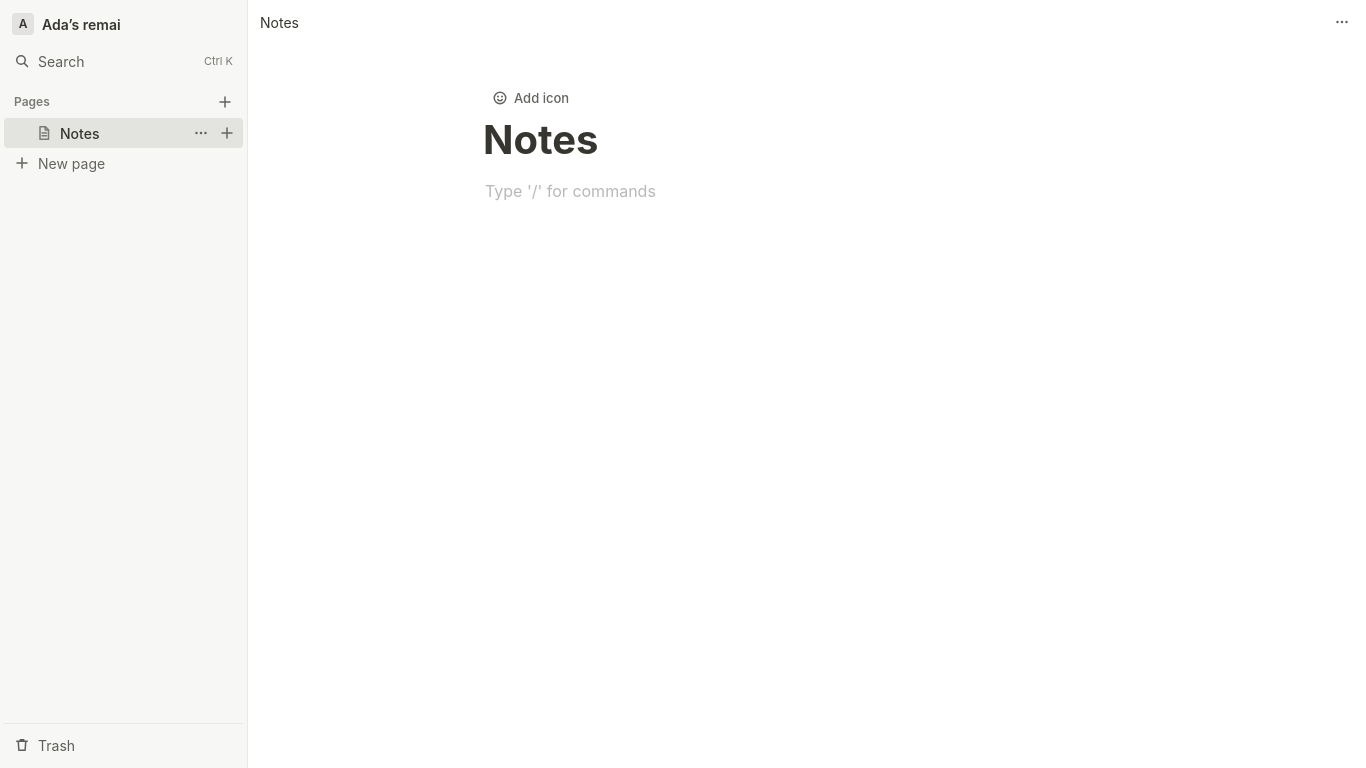
Test: Page header and autosave › Save failure surfaced: shows a save-failed state and keeps the edits on screen
This screenshot has width=1366, height=768.
Type "Important" into the text box named "Text" at (807, 191), box 483,176 -> 1131,206
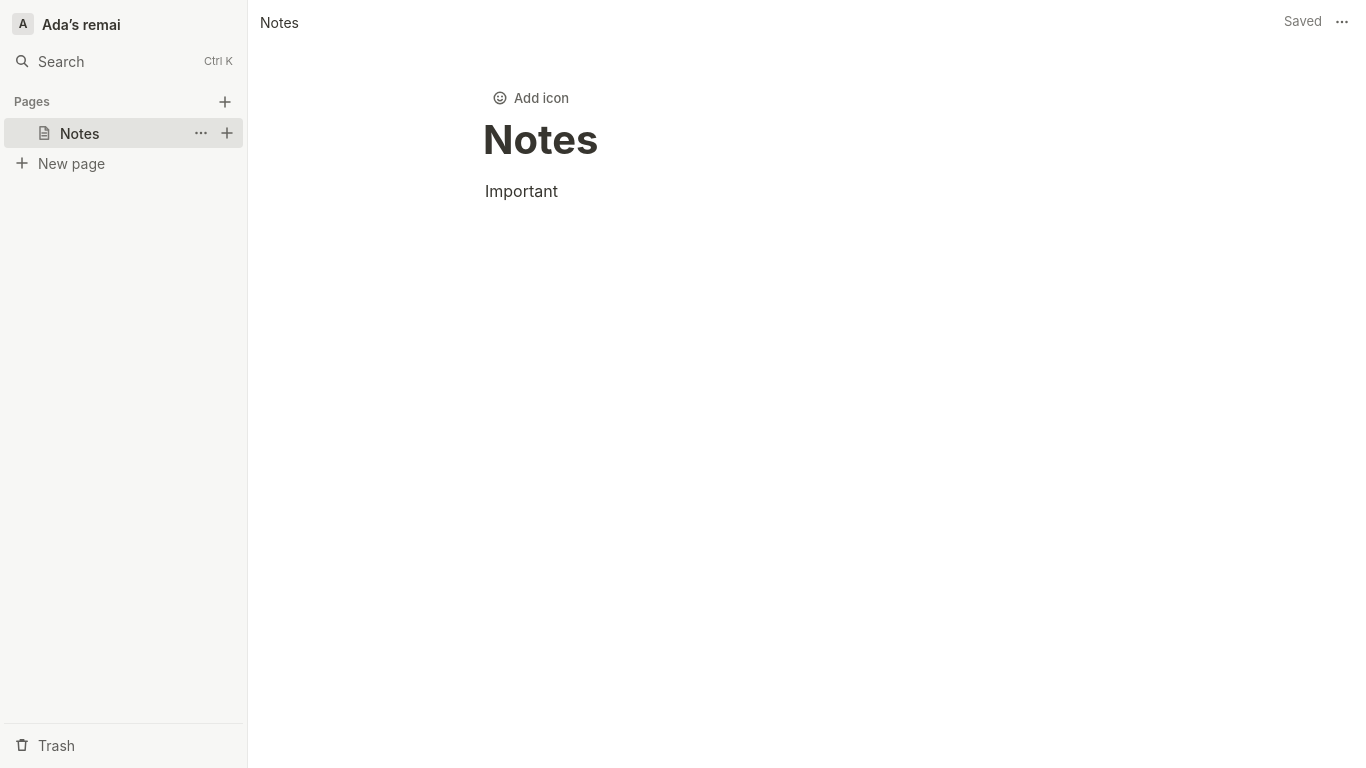
Result: the text "Saved" is shown at 1284,12 -> 1322,32
